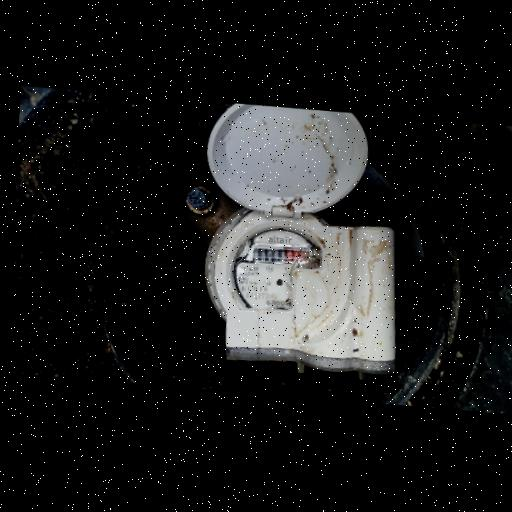0: (265, 249, 275, 263), (252, 248, 260, 262), (259, 249, 267, 263), (273, 249, 281, 263), (286, 249, 294, 262)
1: (292, 251, 300, 263)
6: (280, 249, 288, 264)
border_water_meter_number: (249, 242, 311, 268)
